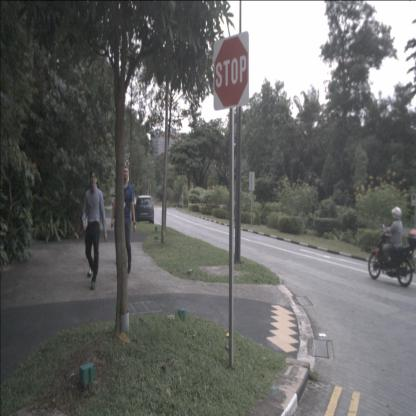human-pedestrian-adult: (82, 169, 107, 290), (111, 166, 136, 274)
vehicle-car: (134, 195, 154, 224)
vehicle-motorcycle: (368, 206, 415, 289)
